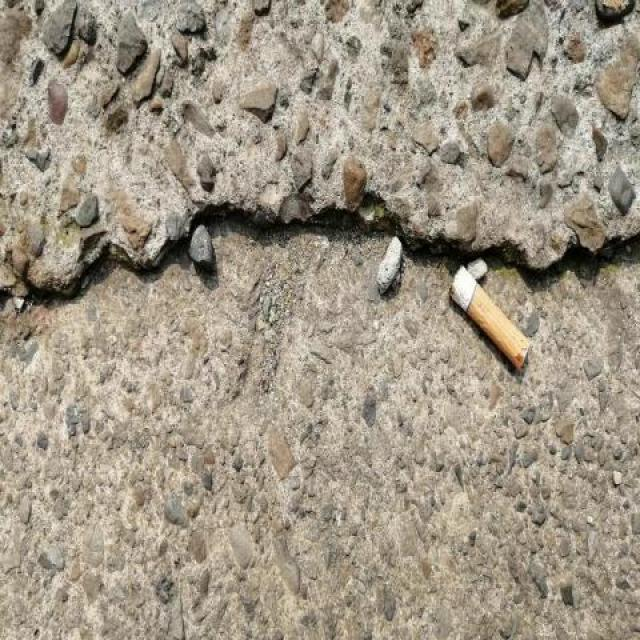non-organic waste: (444, 262, 533, 378)
